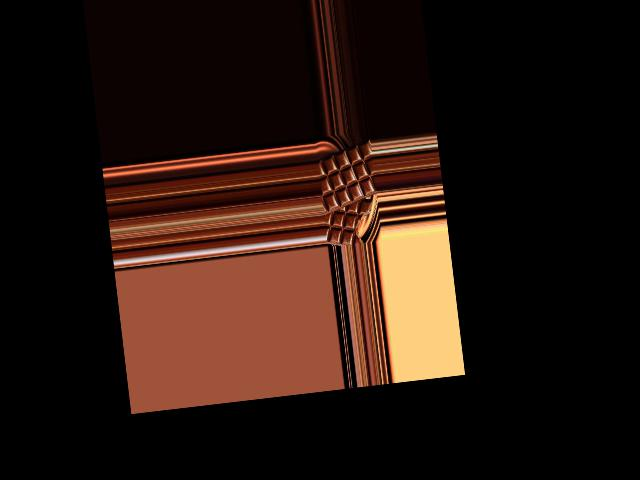chocolate: (314, 137, 377, 215)
